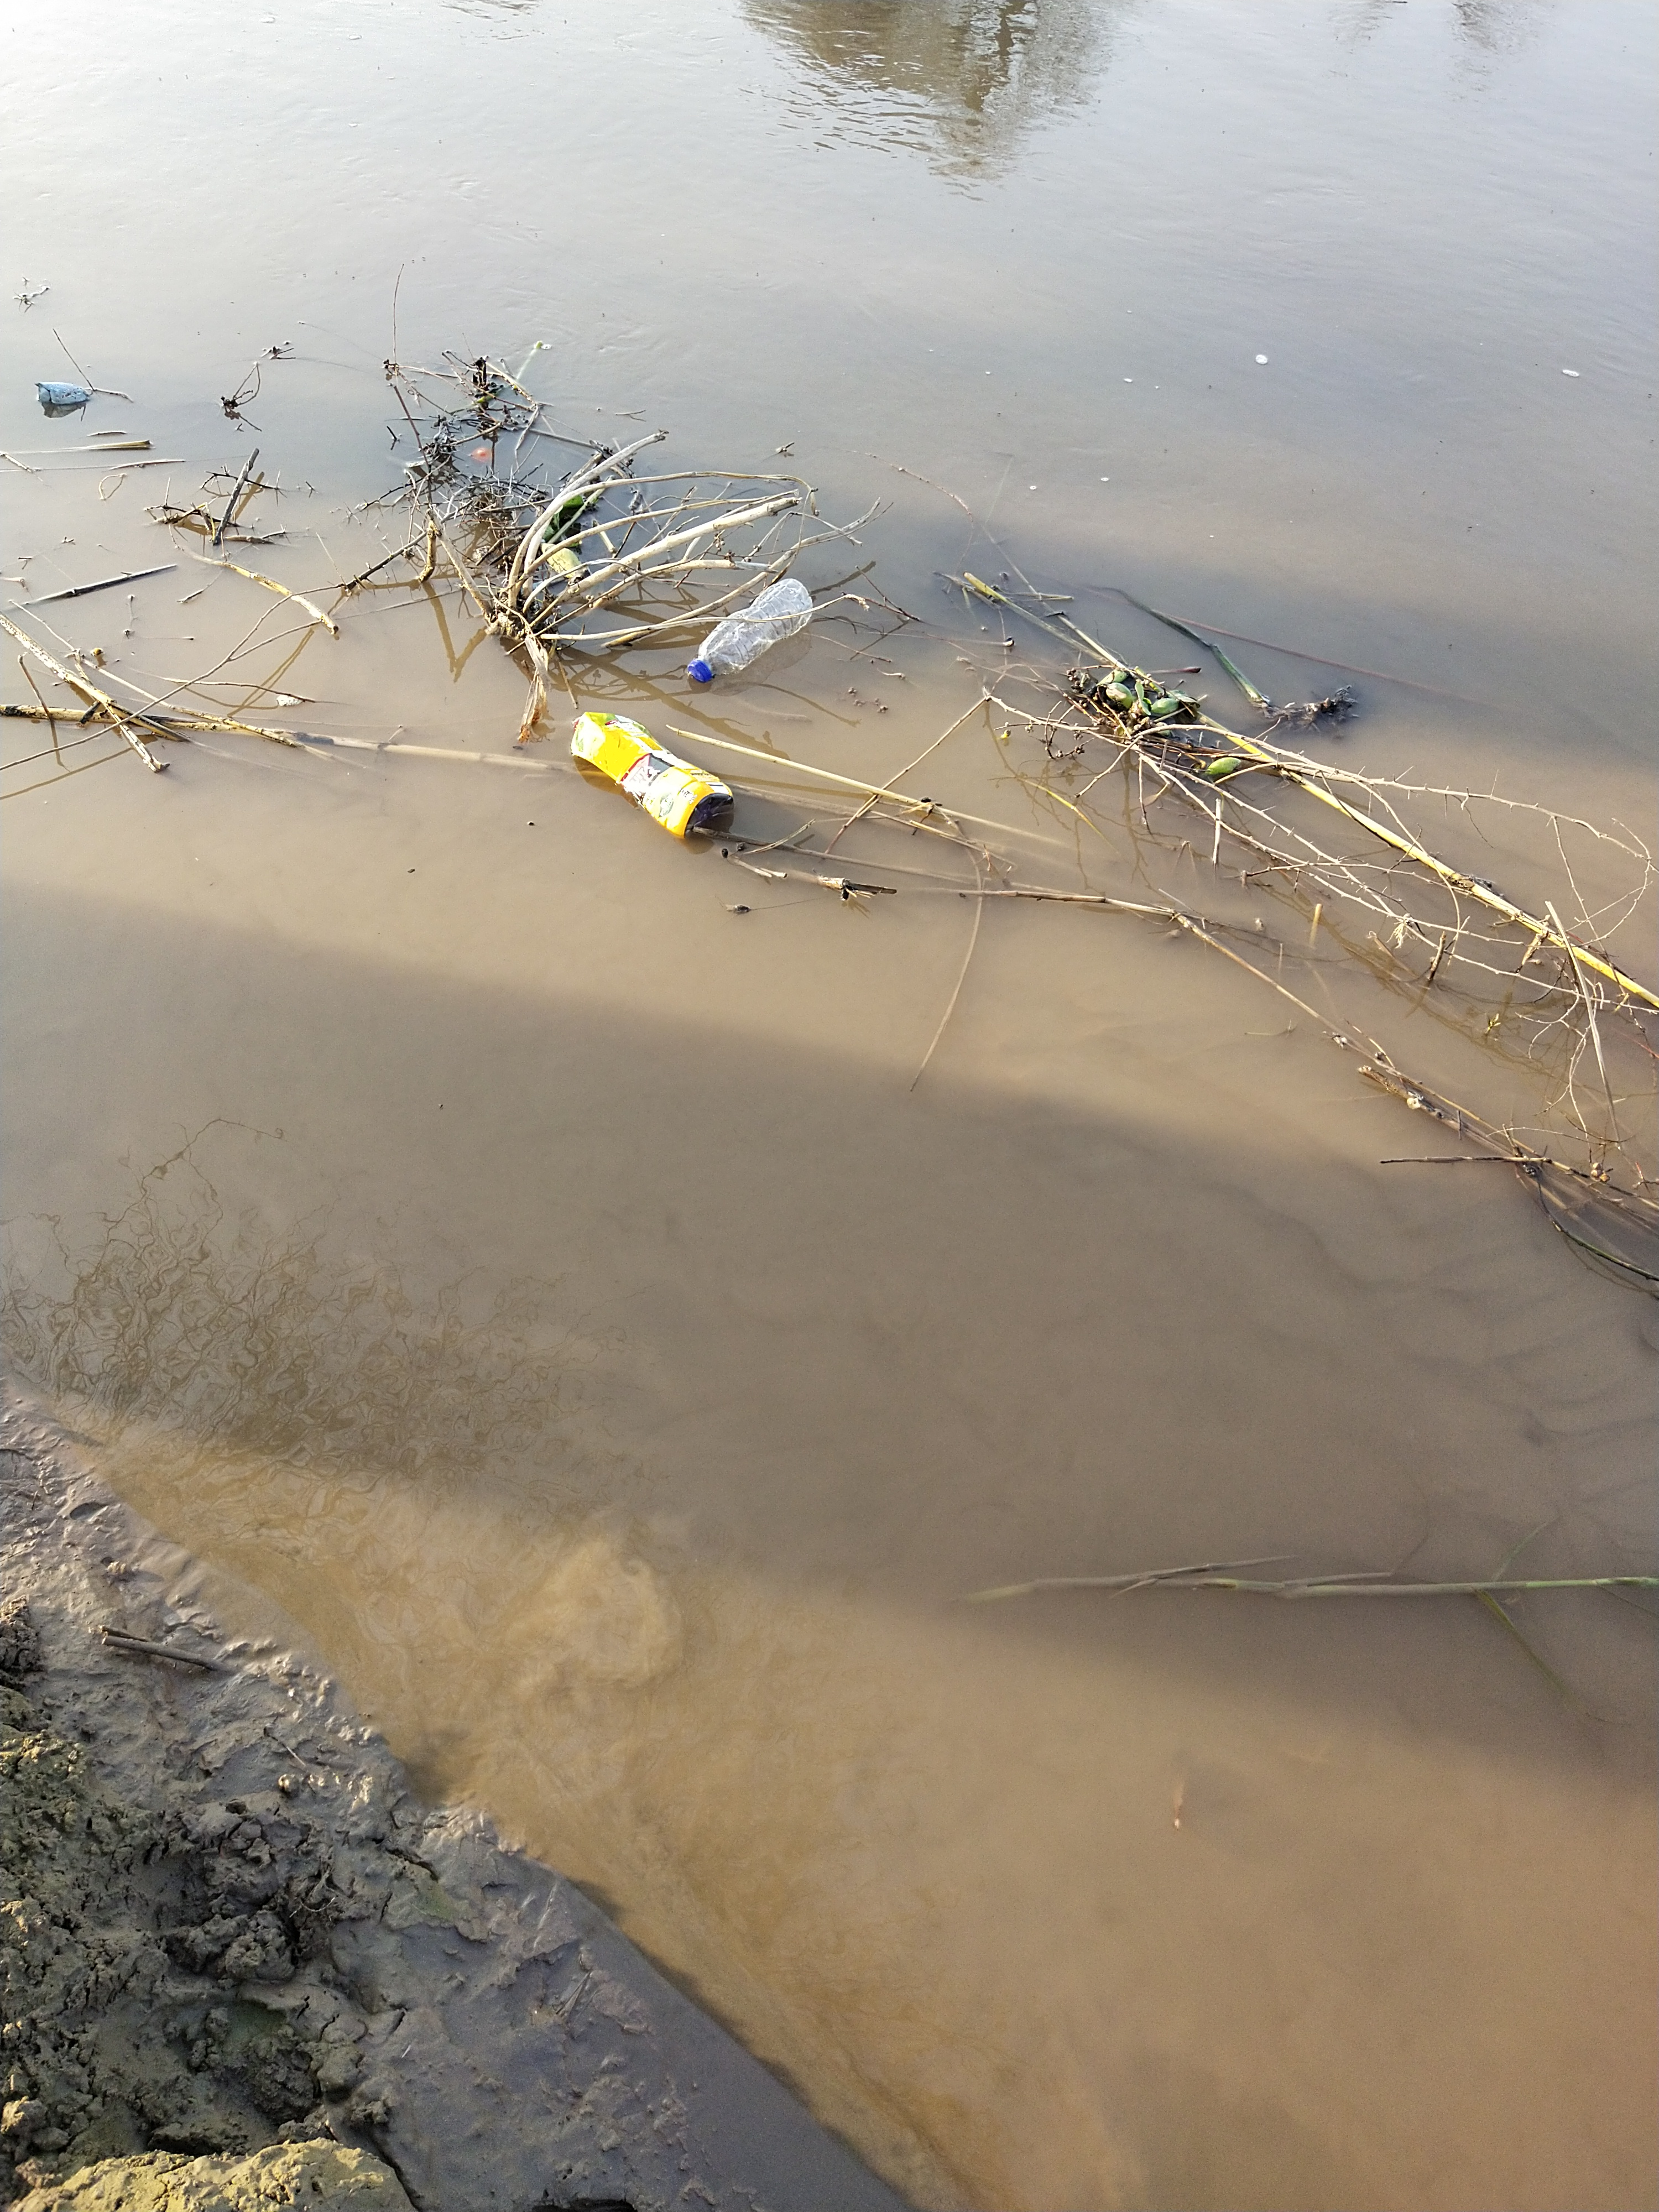Plastic Bottle: (570, 711, 735, 840), (687, 578, 814, 683), (35, 381, 89, 404)
